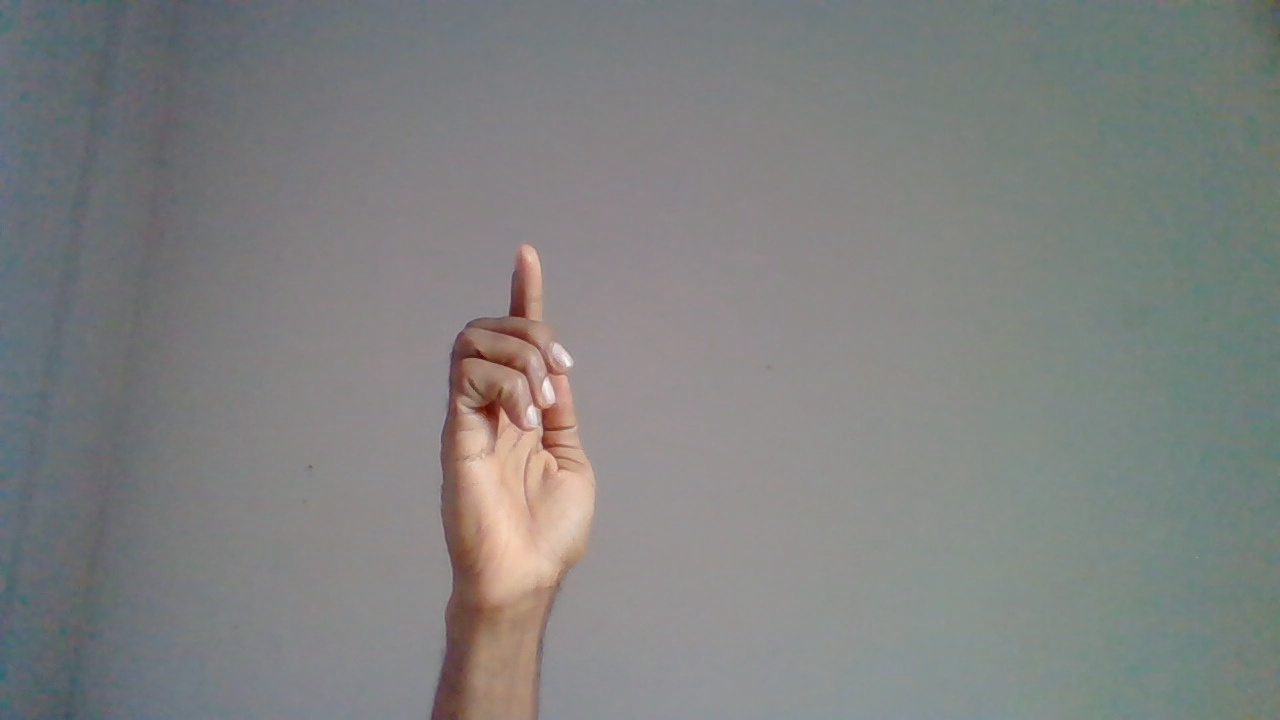qe: (436, 244, 596, 705)
